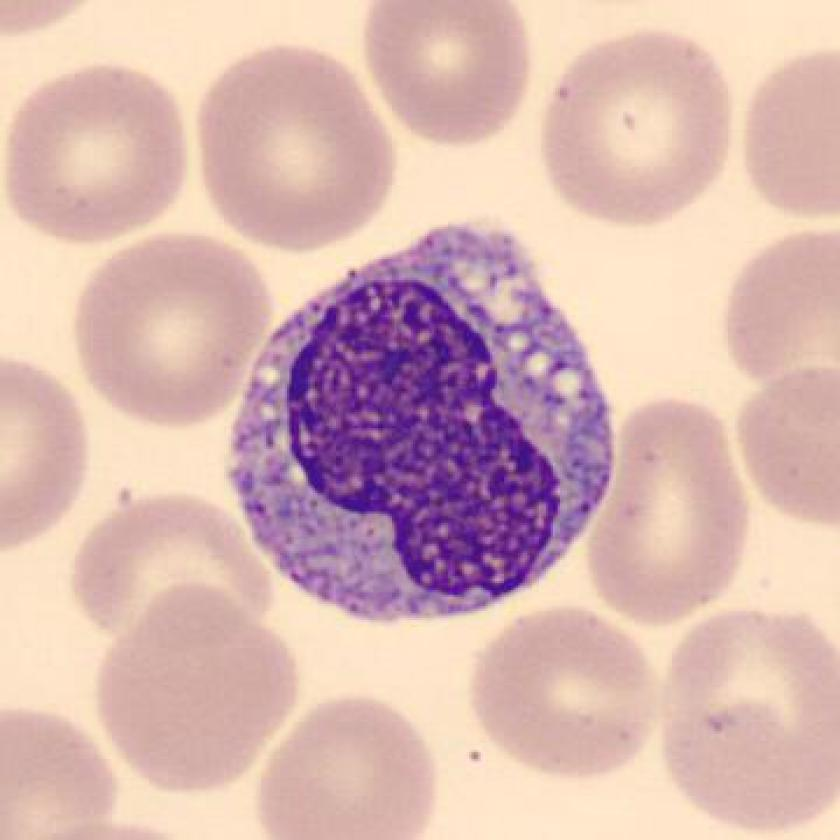monocyte: (204, 200, 643, 647)
